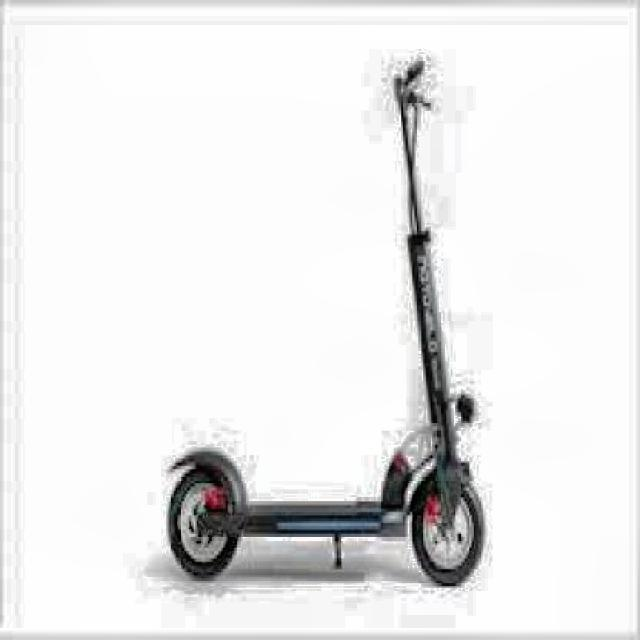bike: (159, 48, 486, 588)
car: (159, 47, 485, 587)
